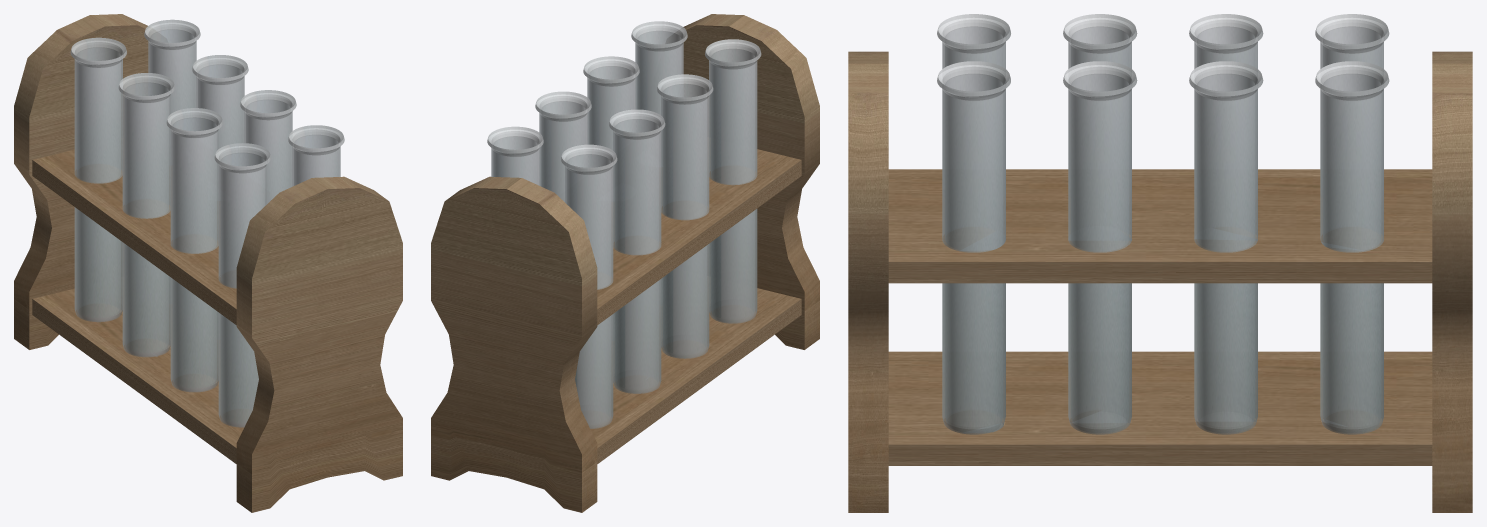
Rendered from test tube rack.fbx.
3 renders of one model, left to right at view 1: azimuth 30°, elevation 25°; view 2: azimuth 150°, elevation 25°; view 3: azimuth 270°, elevation 25°, orthographic. The views are drawn at different scales.
Visible parts, largest first — view 1: Cube, Cylinder; view 2: Cube, Cylinder; view 3: Cube, Cylinder.
Part boxes in pixels (x1,y1,x2,y2): Cube: (14,14,402,512); Cylinder: (70,19,344,427); Cube: (431,14,819,512); Cylinder: (487,21,761,428); Cube: (848,51,1472,512); Cylinder: (937,14,1389,434).
Size of the model in its own units: 227 by 452 by 620.
2 materials, 2 textured.
